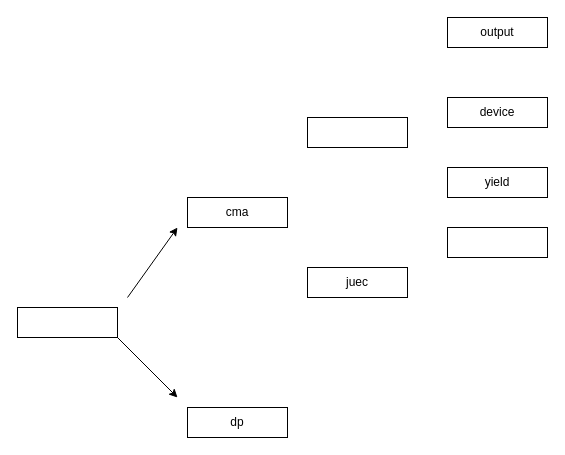
The diagram is 565 pixels wide and 455 high, and some of its shapes have lost their labels. The shapes that lost their labels are listed below. From the top down, each one's centre as x and y in pixels, then its label:
At (357,132): "manage".
At (67,322): "overview".
